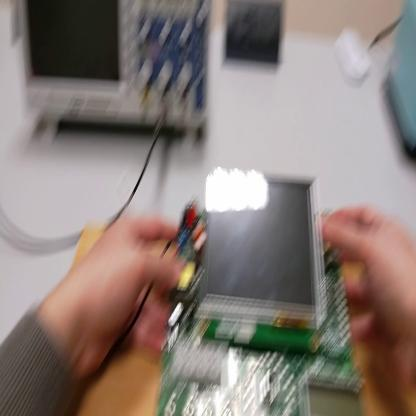hand: (319, 201, 416, 415), (69, 209, 187, 372)
low voltage board: (132, 145, 365, 415)
oscilloscope: (17, 4, 213, 151)
welder station: (386, 3, 415, 159)
